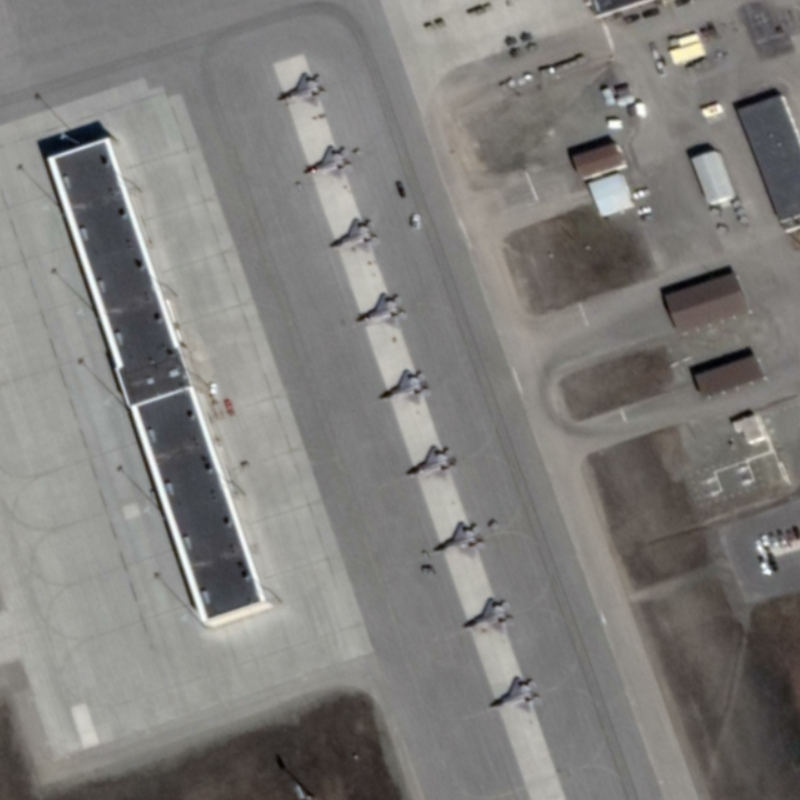A15: (456, 592, 516, 641), (429, 518, 492, 563), (325, 213, 386, 257), (486, 672, 548, 715), (351, 290, 411, 332), (376, 365, 433, 408), (303, 140, 355, 185), (274, 69, 329, 111), (405, 442, 461, 483)
